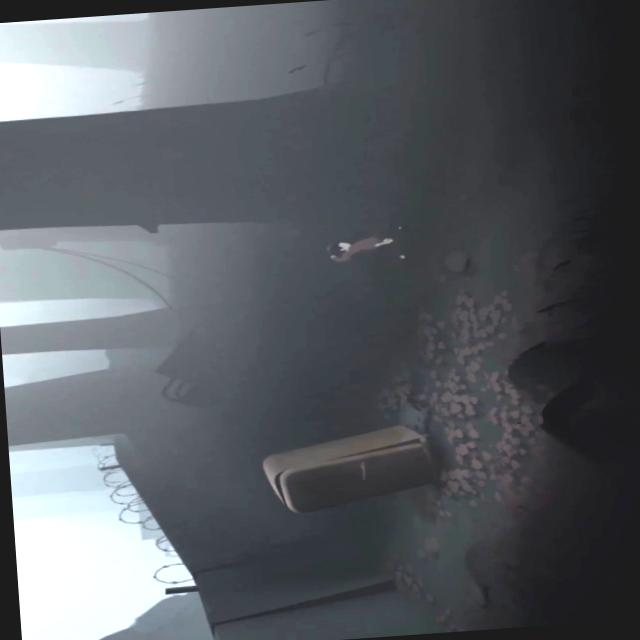boy: (325, 222, 409, 261)
